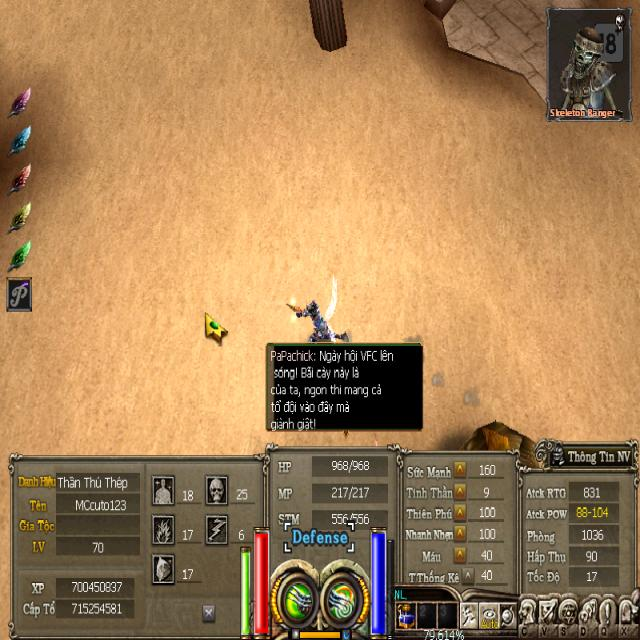hero: (272, 271, 356, 380)
